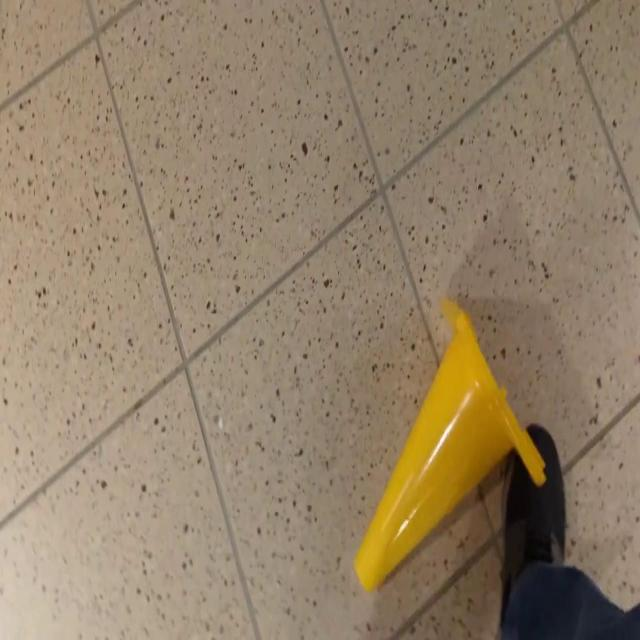frc_cone: (350, 291, 548, 599)
